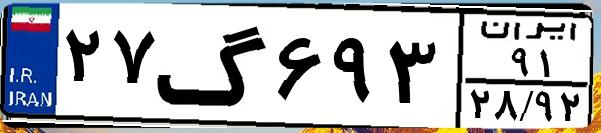1: (537, 27, 568, 80)
2: (57, 26, 110, 100), (560, 70, 590, 125), (470, 70, 495, 125)
3: (385, 28, 445, 110)
6: (270, 28, 330, 110)
7: (110, 28, 156, 98)
8: (495, 70, 520, 125)
9: (330, 28, 385, 110), (508, 27, 537, 80), (535, 70, 560, 125)
گ: (156, 12, 270, 120)
